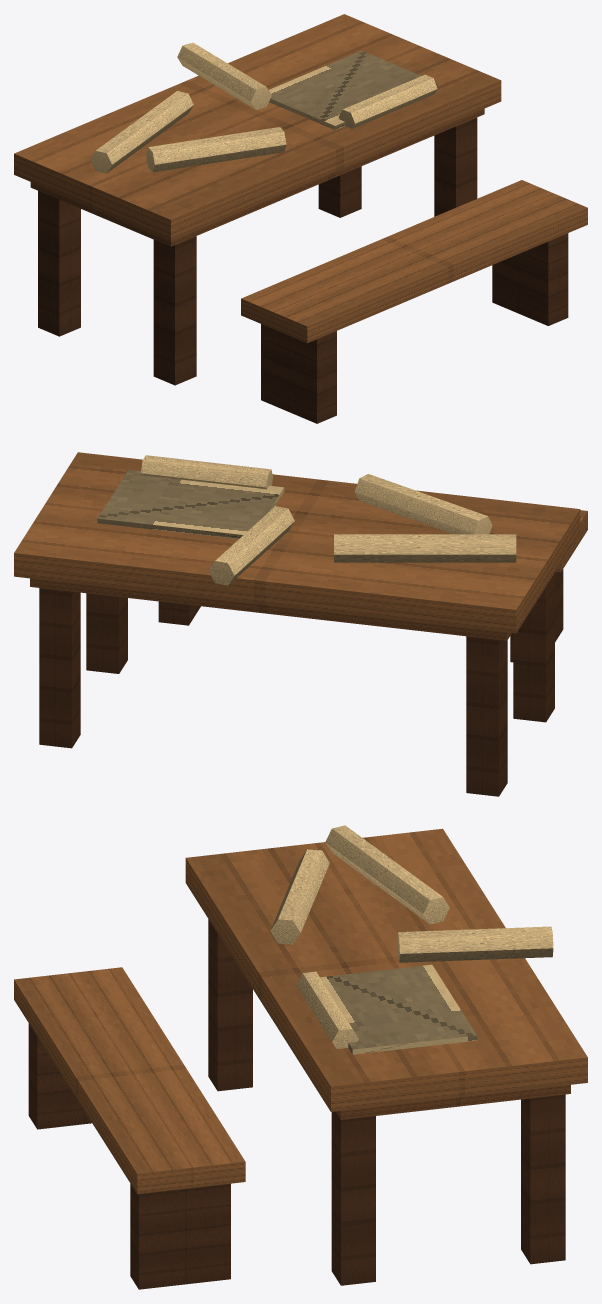
File: island_props.glb
3 views of the same model, one above another, from view 1: azimuth 30°, elevation 25°; view 2: azimuth 150°, elevation 25°; view 3: azimuth 270°, elevation 25° (orthographic). The views are drawn at different scales.
Visible parts, largest first — view 1: Table_Top.001, Table_Bench.001, Table_Scrolls.001; view 2: Table_Top.001, Table_Scrolls.001, Table_Bench.001; view 3: Table_Top.001, Table_Bench.001, Table_Scrolls.001.
Boxes of the visible parts, box(x1,y1,x2,y2) form: Table_Top.001: box(14, 14, 501, 385); Table_Bench.001: box(241, 180, 587, 423); Table_Scrolls.001: box(90, 42, 437, 173); Table_Top.001: box(14, 452, 580, 796); Table_Scrolls.001: box(97, 455, 516, 585); Table_Bench.001: box(158, 510, 587, 662); Table_Top.001: box(185, 828, 587, 1285); Table_Bench.001: box(14, 967, 245, 1289); Table_Scrolls.001: box(270, 825, 553, 1054).
Bounding box in the file's own units: 2.21 × 0.9376 × 2.05.
1 material, 1 textured.
